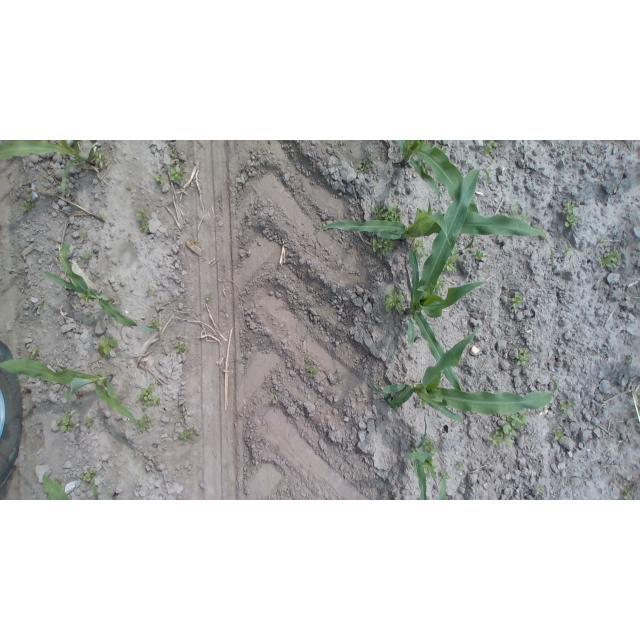Maize: (366, 324, 559, 424), (405, 169, 491, 393), (319, 197, 553, 265), (43, 242, 160, 334), (0, 358, 138, 431), (395, 141, 480, 256), (1, 141, 96, 196), (399, 416, 438, 501), (43, 473, 72, 500), (88, 470, 98, 500), (438, 471, 446, 500)
Weeds: (488, 412, 531, 447), (136, 382, 162, 411), (370, 203, 406, 221), (383, 286, 405, 313), (563, 200, 581, 228), (177, 426, 201, 446), (599, 249, 621, 269), (168, 167, 189, 186), (135, 207, 149, 233), (558, 398, 576, 418), (304, 355, 319, 378), (480, 140, 499, 158), (137, 413, 155, 431), (99, 338, 118, 355), (57, 414, 73, 433), (515, 348, 531, 366), (78, 467, 96, 483), (416, 239, 429, 261), (624, 481, 637, 500), (422, 440, 438, 455), (561, 243, 576, 258), (173, 343, 190, 356), (94, 151, 108, 165), (510, 292, 522, 308), (147, 317, 163, 329), (20, 200, 36, 212), (383, 240, 394, 257), (552, 428, 566, 441), (471, 249, 488, 259), (357, 160, 371, 172), (27, 345, 39, 359), (372, 240, 383, 253), (625, 357, 637, 368), (455, 460, 466, 472), (82, 417, 94, 428), (445, 261, 458, 271), (79, 231, 90, 242), (313, 223, 323, 234), (154, 173, 164, 184), (439, 469, 449, 479), (599, 237, 608, 248), (170, 148, 178, 160), (270, 391, 279, 401), (82, 251, 90, 262), (537, 487, 547, 495), (438, 279, 445, 290), (515, 215, 530, 220), (510, 204, 519, 212), (203, 295, 211, 304), (90, 315, 99, 323), (27, 194, 34, 202), (433, 459, 439, 468), (146, 284, 152, 293), (631, 391, 640, 397), (601, 281, 608, 288), (338, 140, 346, 146), (420, 399, 426, 407), (37, 300, 43, 308), (114, 393, 120, 400), (126, 186, 132, 191), (54, 478, 60, 483), (443, 147, 447, 153), (424, 466, 428, 472), (636, 401, 640, 407), (224, 463, 228, 468), (100, 215, 104, 220), (176, 165, 180, 168)
